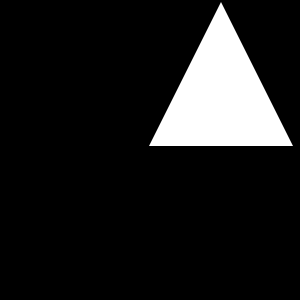triangle: (149, 2, 293, 146)
